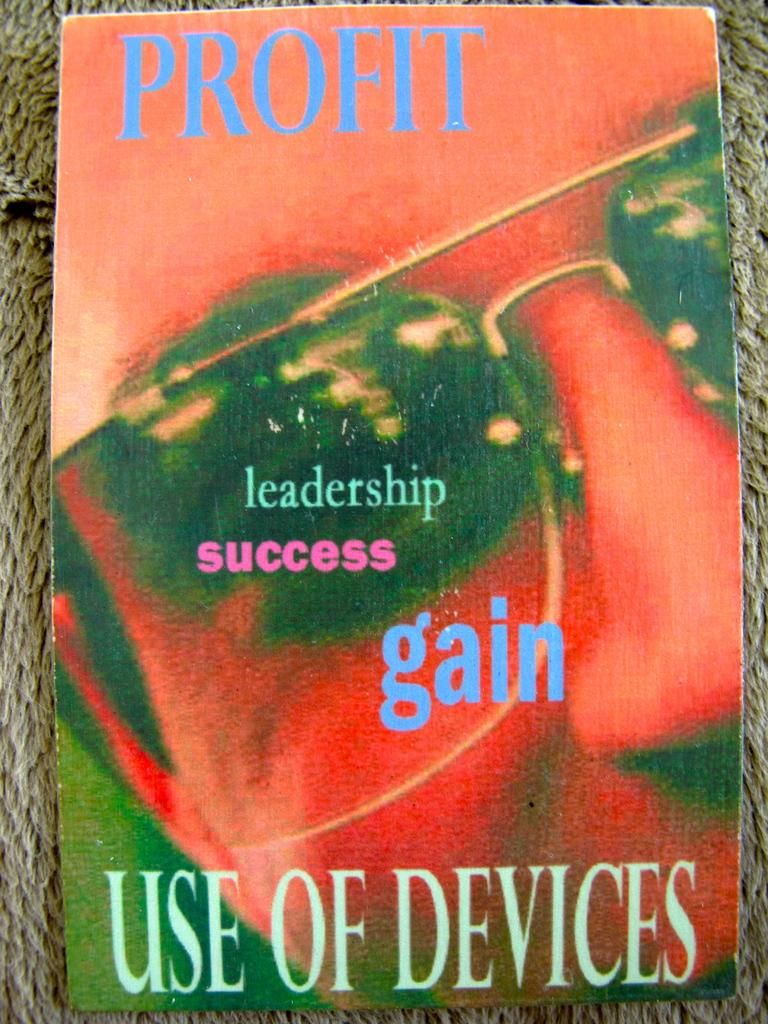book: (49, 1, 730, 1000)
